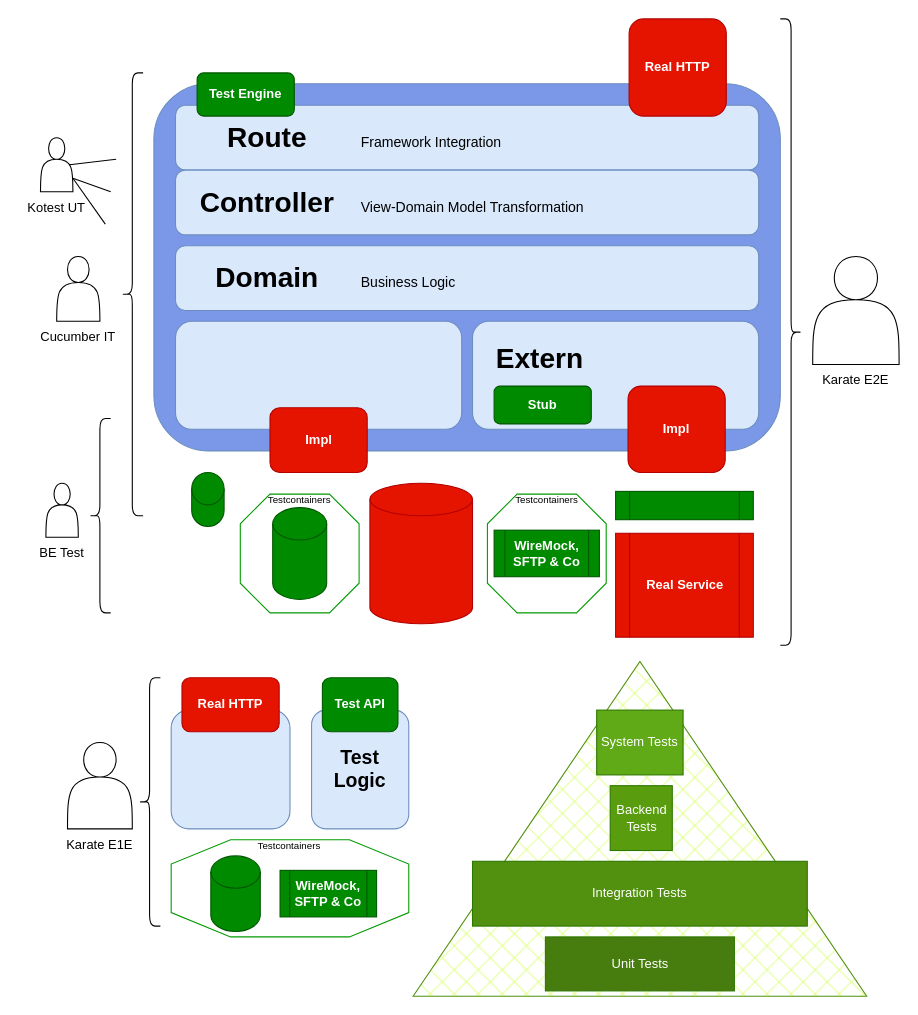
The diagram is 918 pixels wide and 1015 high, and some of its shapes have lost their labels. Here are the shapes that lost their labels. From the top down, the centre of each, then its label:
At [318,374]: "Persistence".
At [207,498]: "H2".
At [684,505]: "Sandbox Service".
At [299,553]: "Test Oracle".
At [421,553]: "Real Oracle".
At [230,769]: "Service".
At [235,893]: "Oracle".
